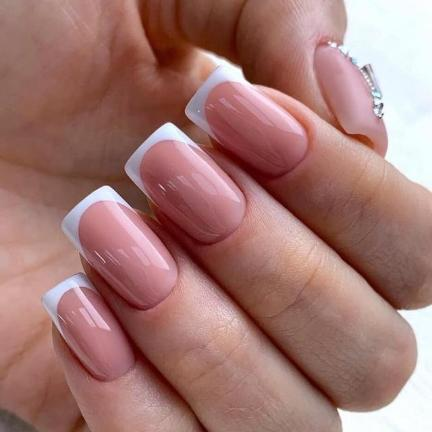Nail: (123, 122, 248, 246), (59, 185, 178, 310), (183, 64, 309, 180), (40, 271, 137, 382), (313, 41, 389, 158)
